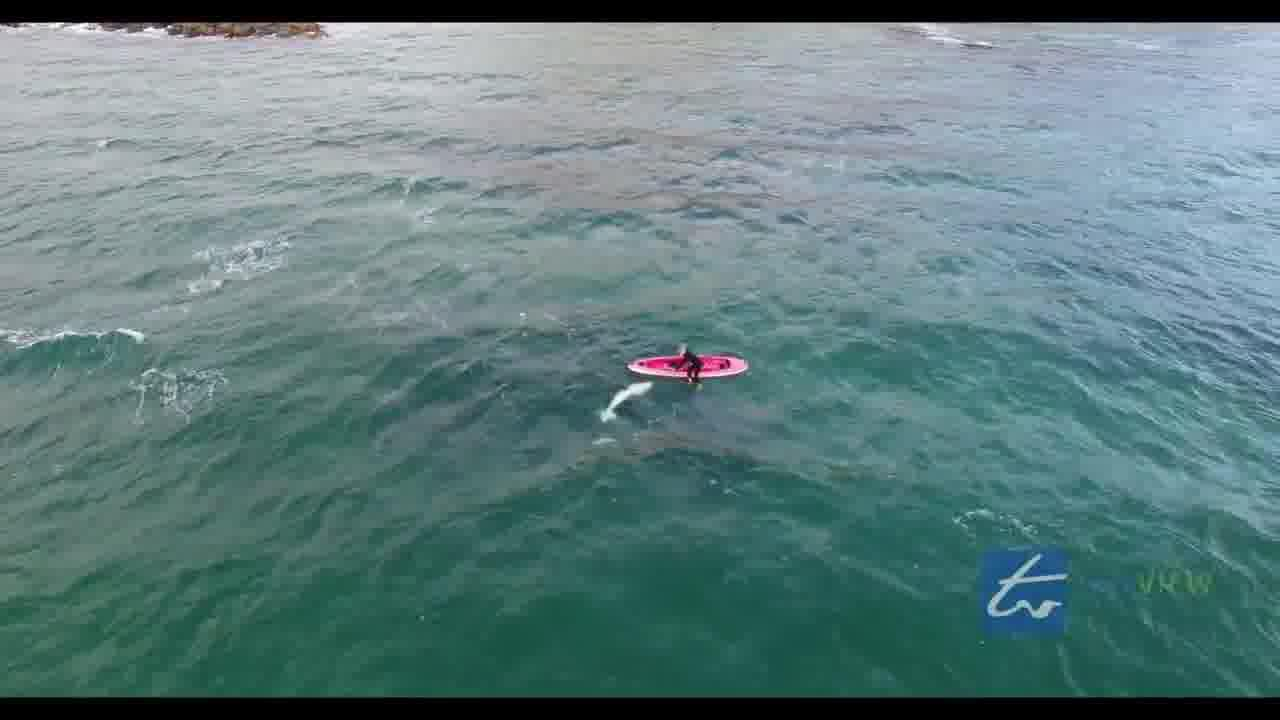human: (669, 338, 707, 389)
